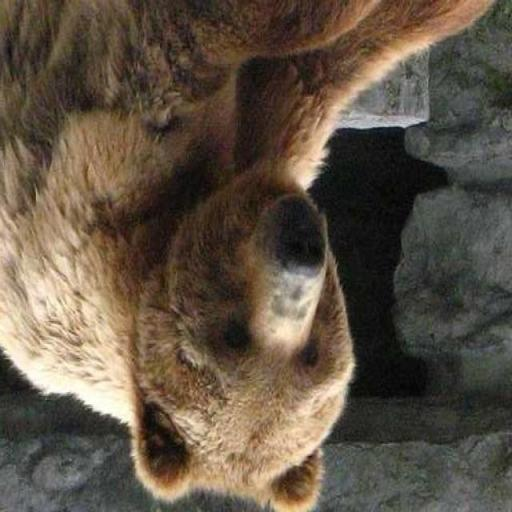Bear: (0, 0, 497, 510)
